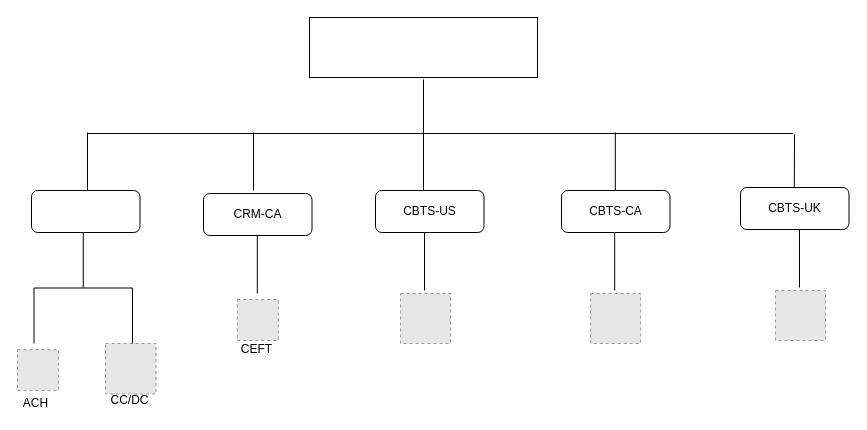
Some shapes in this 867 by 430 pixel diagram are drawn without their labels. Grey dashed boxes stand in for pictures. The shapes that lost their labels are listed below. From the top down, each one's centre as x and y in pixels, then its label:
At [423,47]: "AutoPay Payment".
At [85,211]: "CRM-US".
